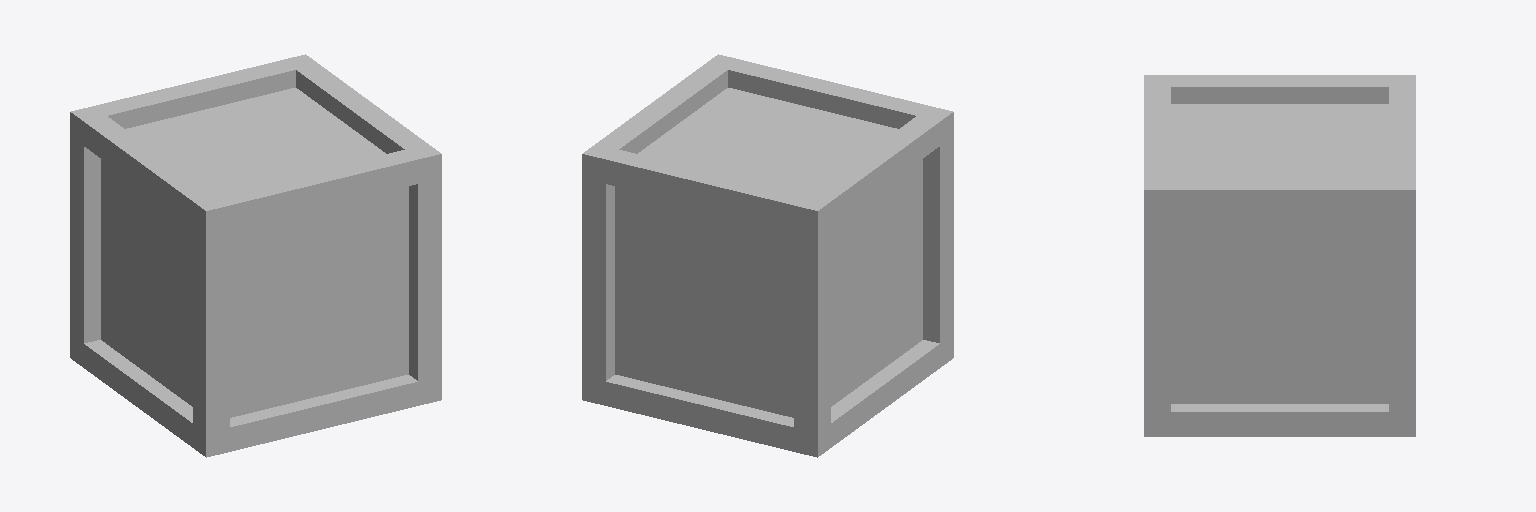
Rendered from TestCube.obj.
The picture shows the model from 3 angles: view 1: azimuth 30°, elevation 25°; view 2: azimuth 150°, elevation 25°; view 3: azimuth 270°, elevation 25°; orthographic projection.
Visible parts, largest first — view 1: Cube; view 2: Cube; view 3: Cube.
Boxes of the visible parts, x1,y1,x2,y2 form: Cube: [70, 54, 441, 457]; Cube: [582, 54, 953, 457]; Cube: [1144, 75, 1415, 436].
Size of the model in its own units: 1.12 by 1.12 by 1.12.